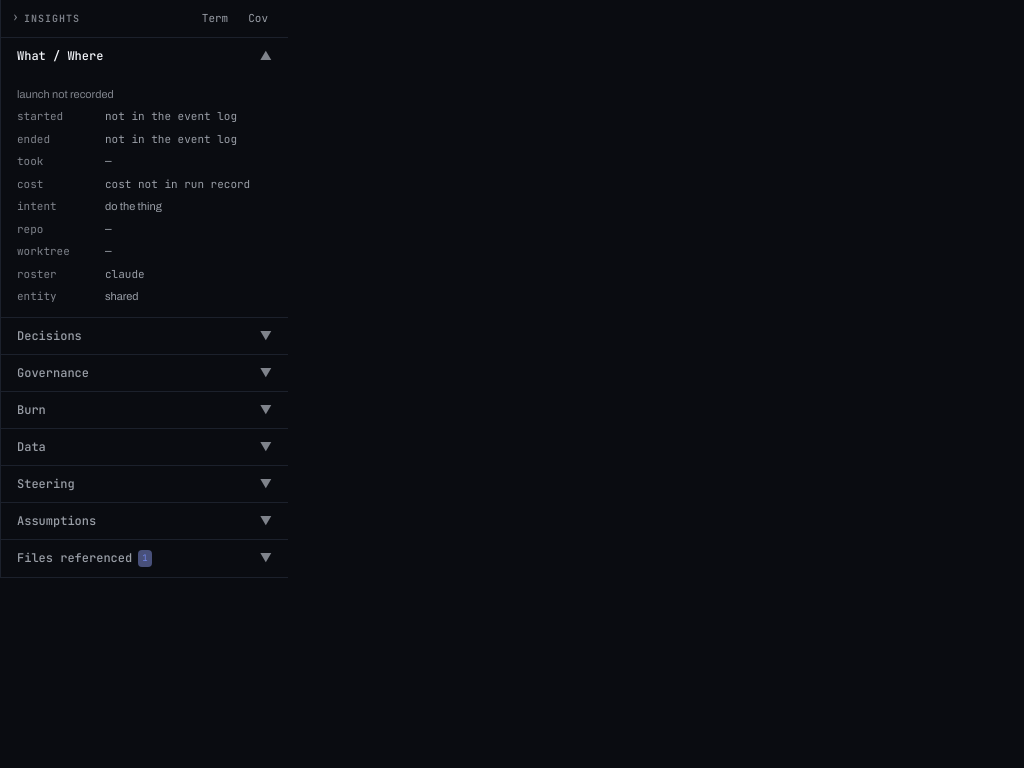
RightPanel Files tab — slice I inline viewer + preserved openPath/copy › the [Full diff] header button opens the viewer on the whole-run diff
Click the button "Files referenced 1 ▼" at (144, 558), box [1,540,288,577]
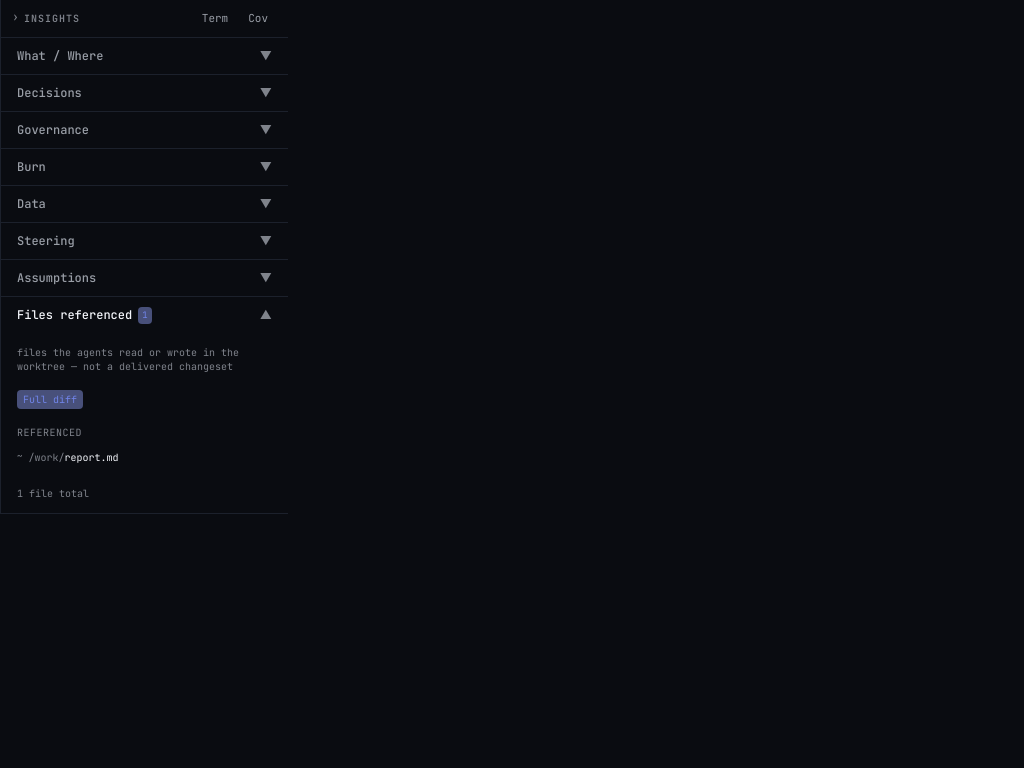
Click the button with test id "files-full-diff" at (50, 399), box [17,390,83,408]
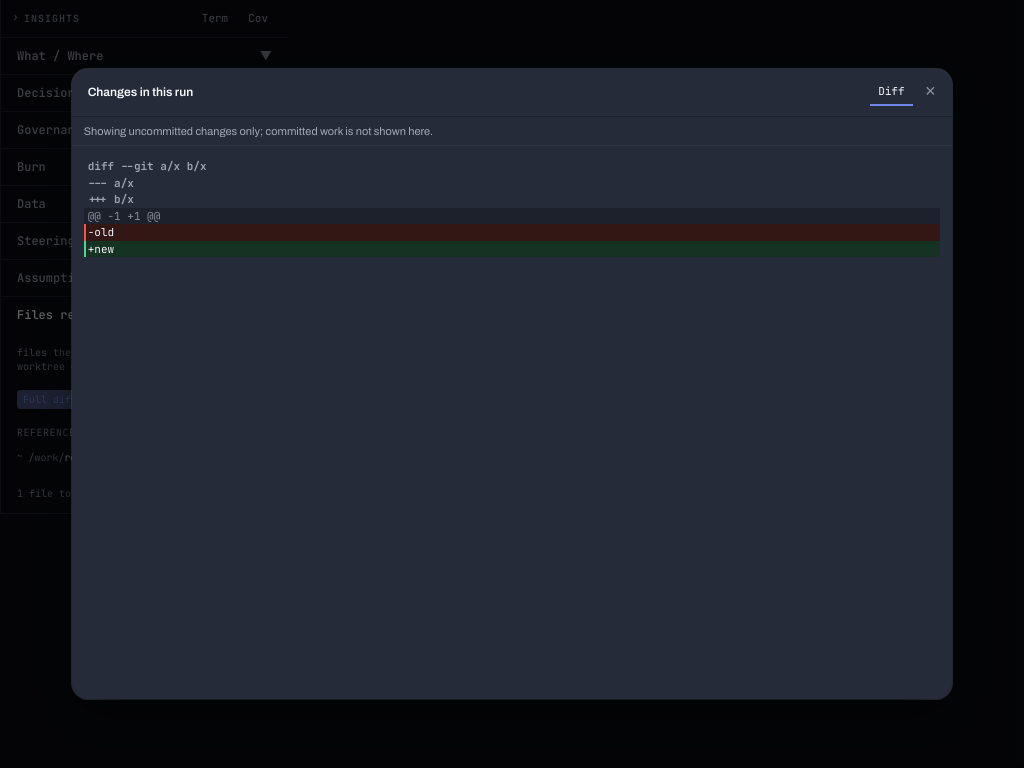
expect the dialog with test id "file-viewer" is shown: met
expect the text with test id "diff-line-add" reads "+new": met, box [88,242,114,256]
